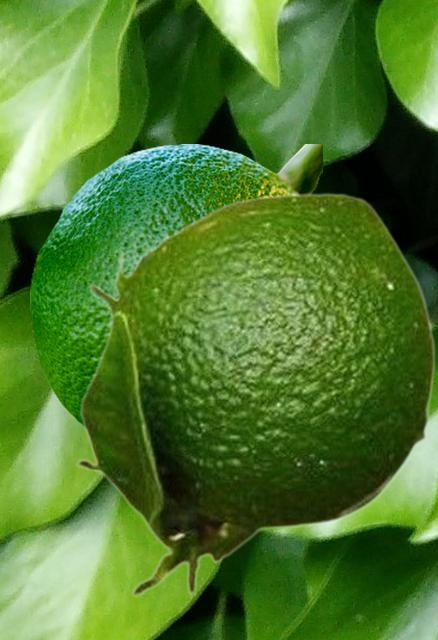dalandan: (74, 192, 435, 597), (30, 144, 321, 429)
